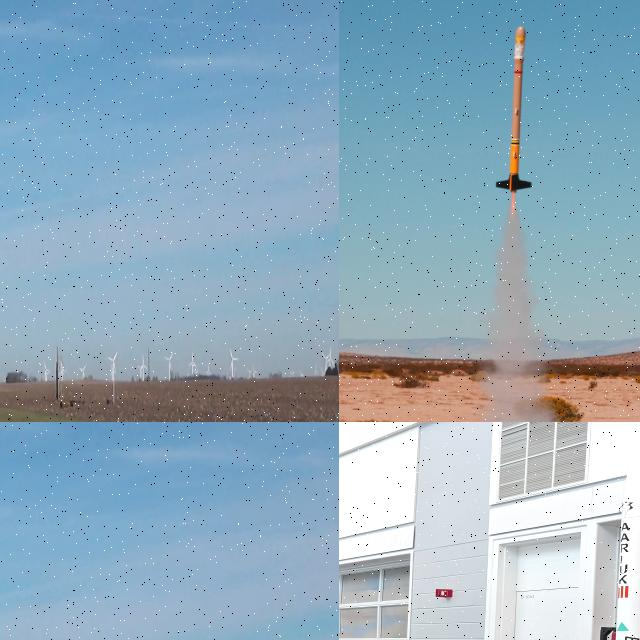Rocket: (496, 25, 533, 193), (56, 361, 59, 399)
